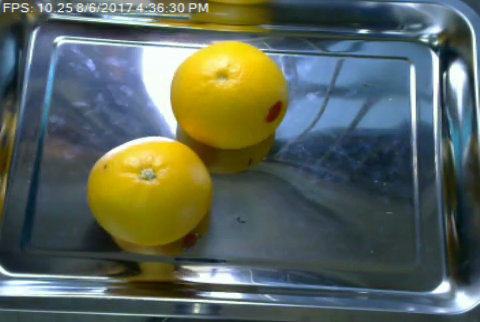Orange: (85, 136, 214, 246), (169, 41, 289, 151)
